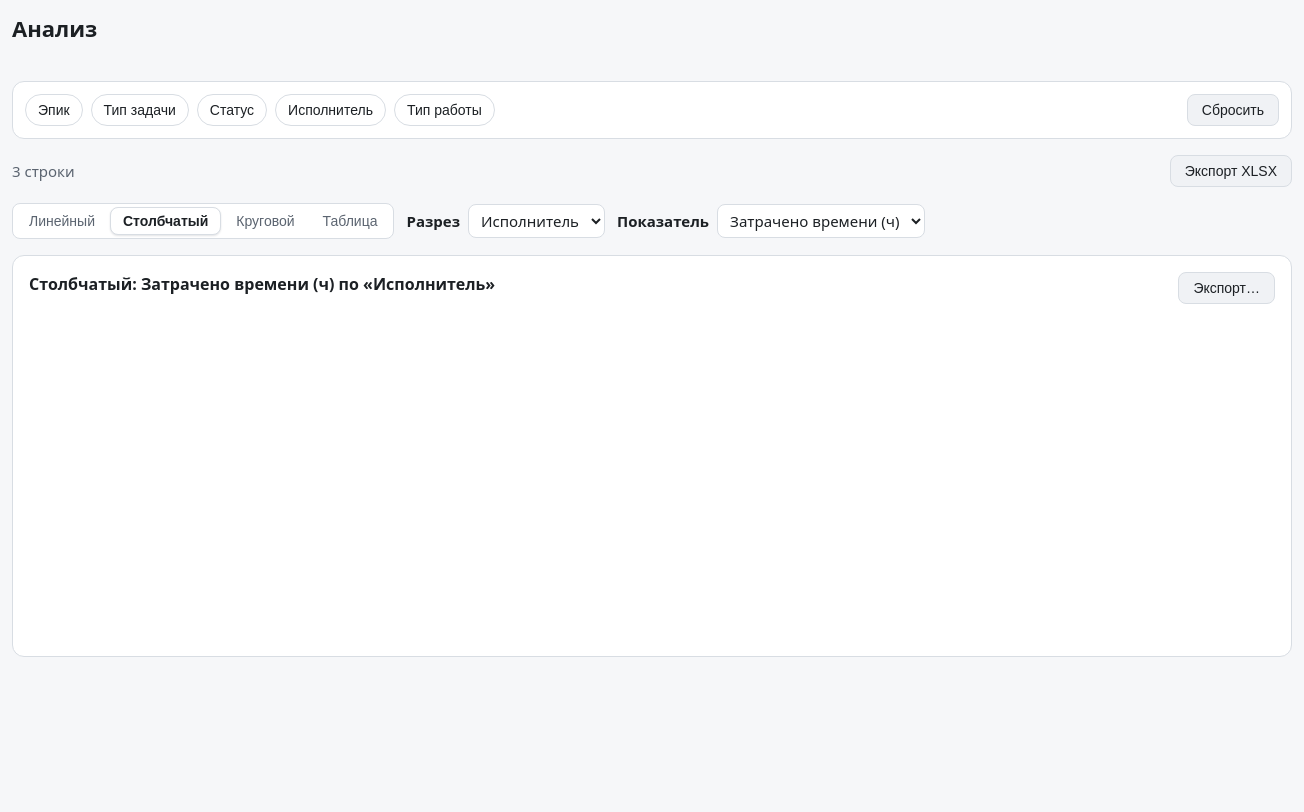
Scenario: AnalysisScreen export (CAP-7) › EXPORT_PNG: downloads <base>-график.png and confirms with a status toast
Click the button with class "export-button" at (1227,288), box [1178,272,1275,304]
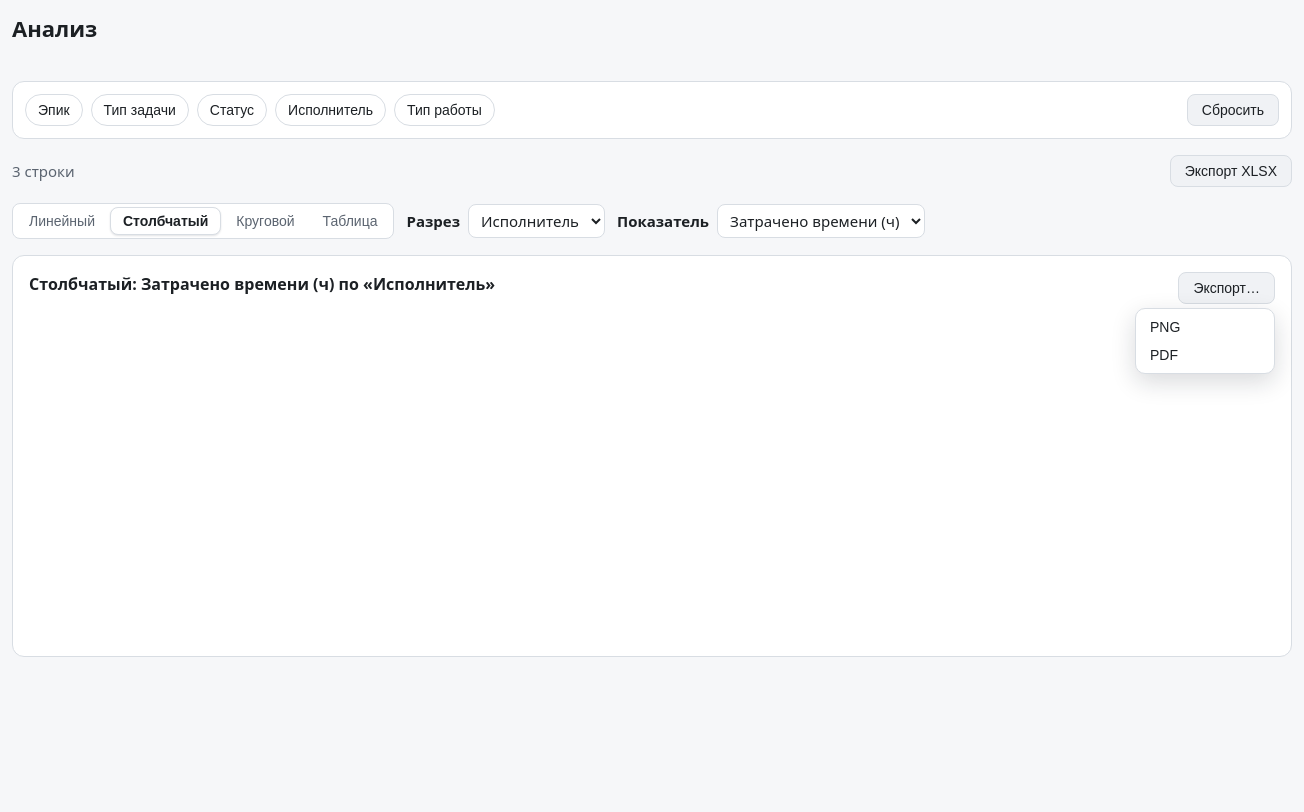
Click the button with class "export-option" showing "PNG" at (1205,327), box [1140,313,1270,341]
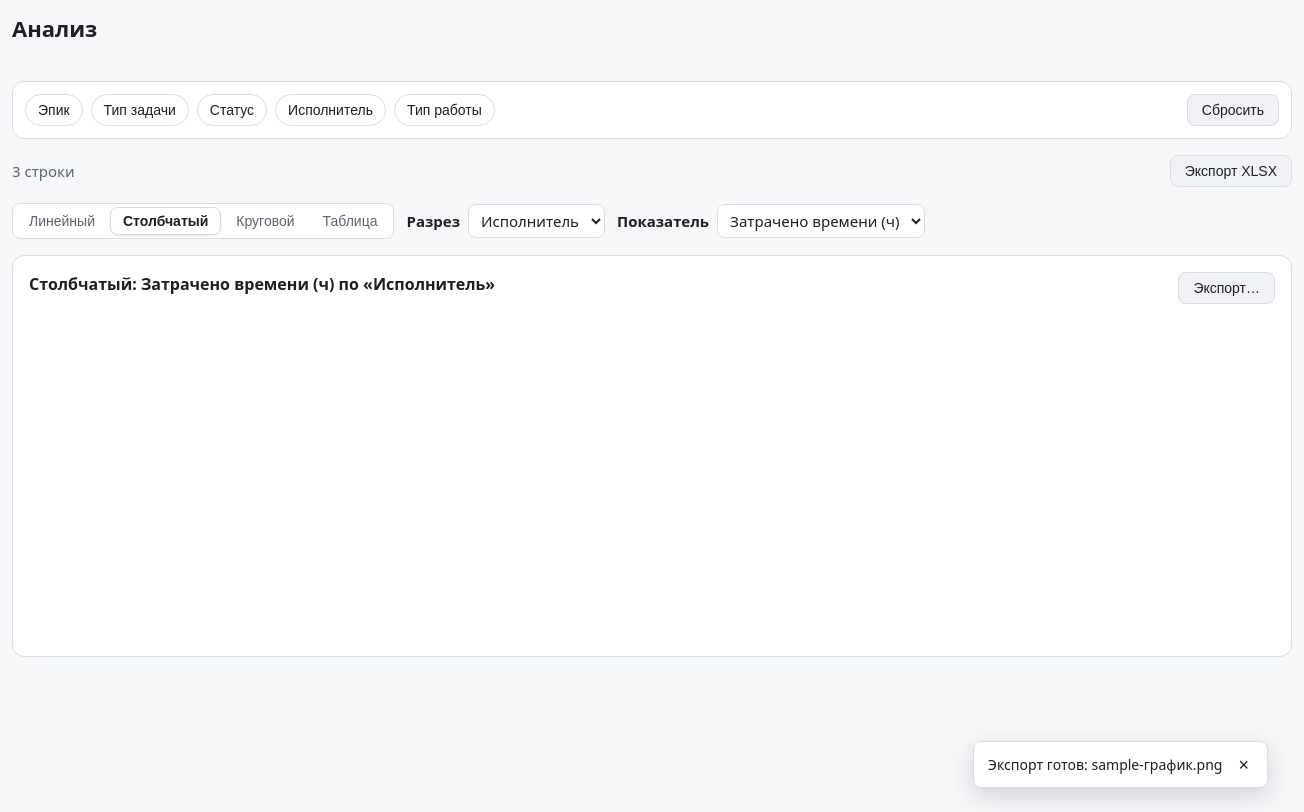
Now the message with class "toast" shows "Экспорт готов: sample-график.png", box [988,755,1222,774]
